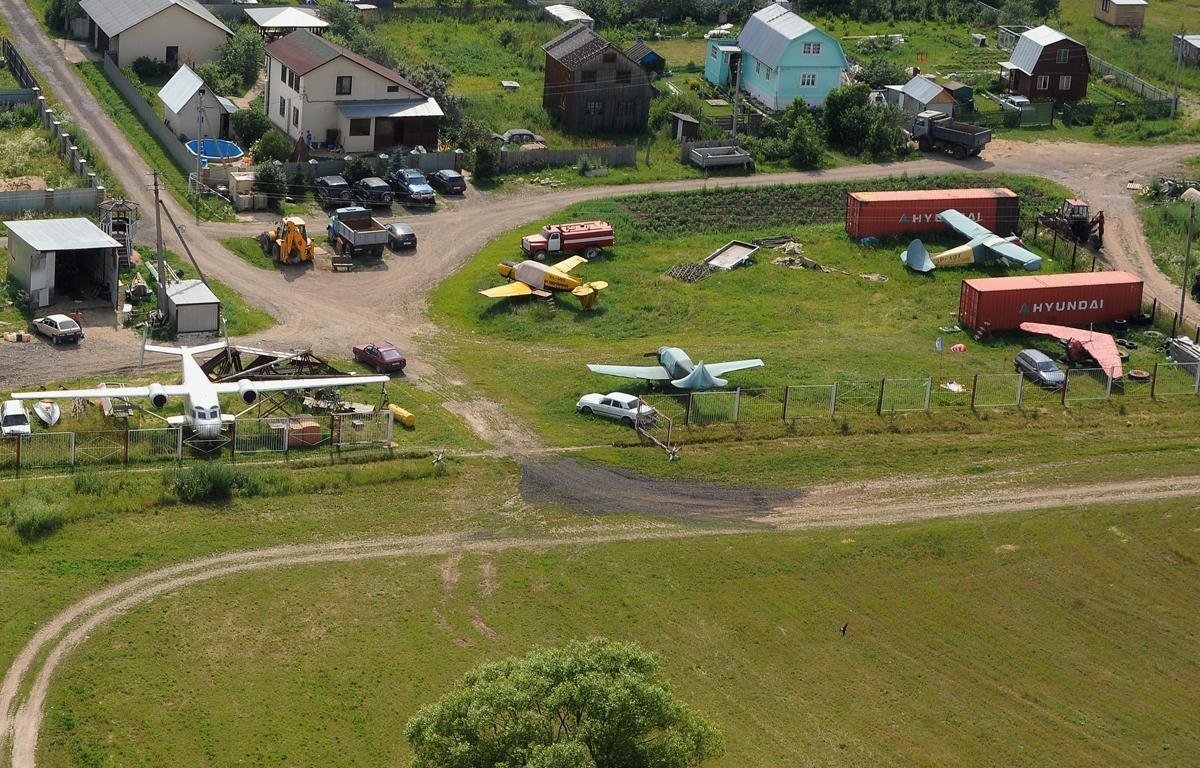Airplane: (8, 317, 394, 443), (898, 206, 1045, 276), (583, 344, 767, 393), (474, 252, 612, 314), (1017, 320, 1125, 382)
Boat: (30, 398, 62, 428)
Car: (516, 217, 618, 263), (574, 390, 660, 429), (1012, 348, 1072, 392), (389, 166, 438, 210), (350, 340, 407, 375), (30, 311, 84, 347), (350, 175, 395, 211), (312, 172, 354, 210), (0, 398, 33, 440), (425, 166, 468, 196), (381, 220, 418, 252), (998, 93, 1038, 119), (492, 127, 548, 145)
